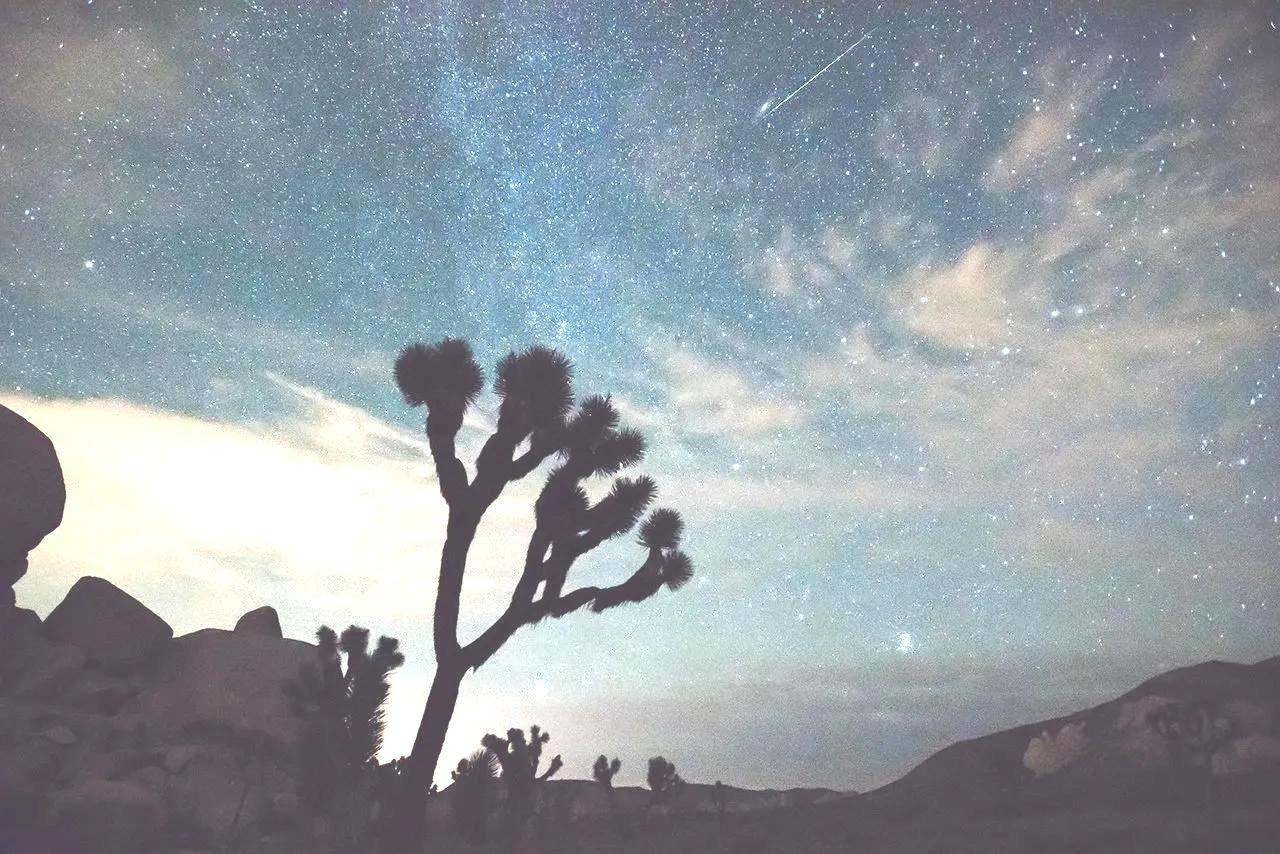meteorite: (764, 23, 859, 137)
